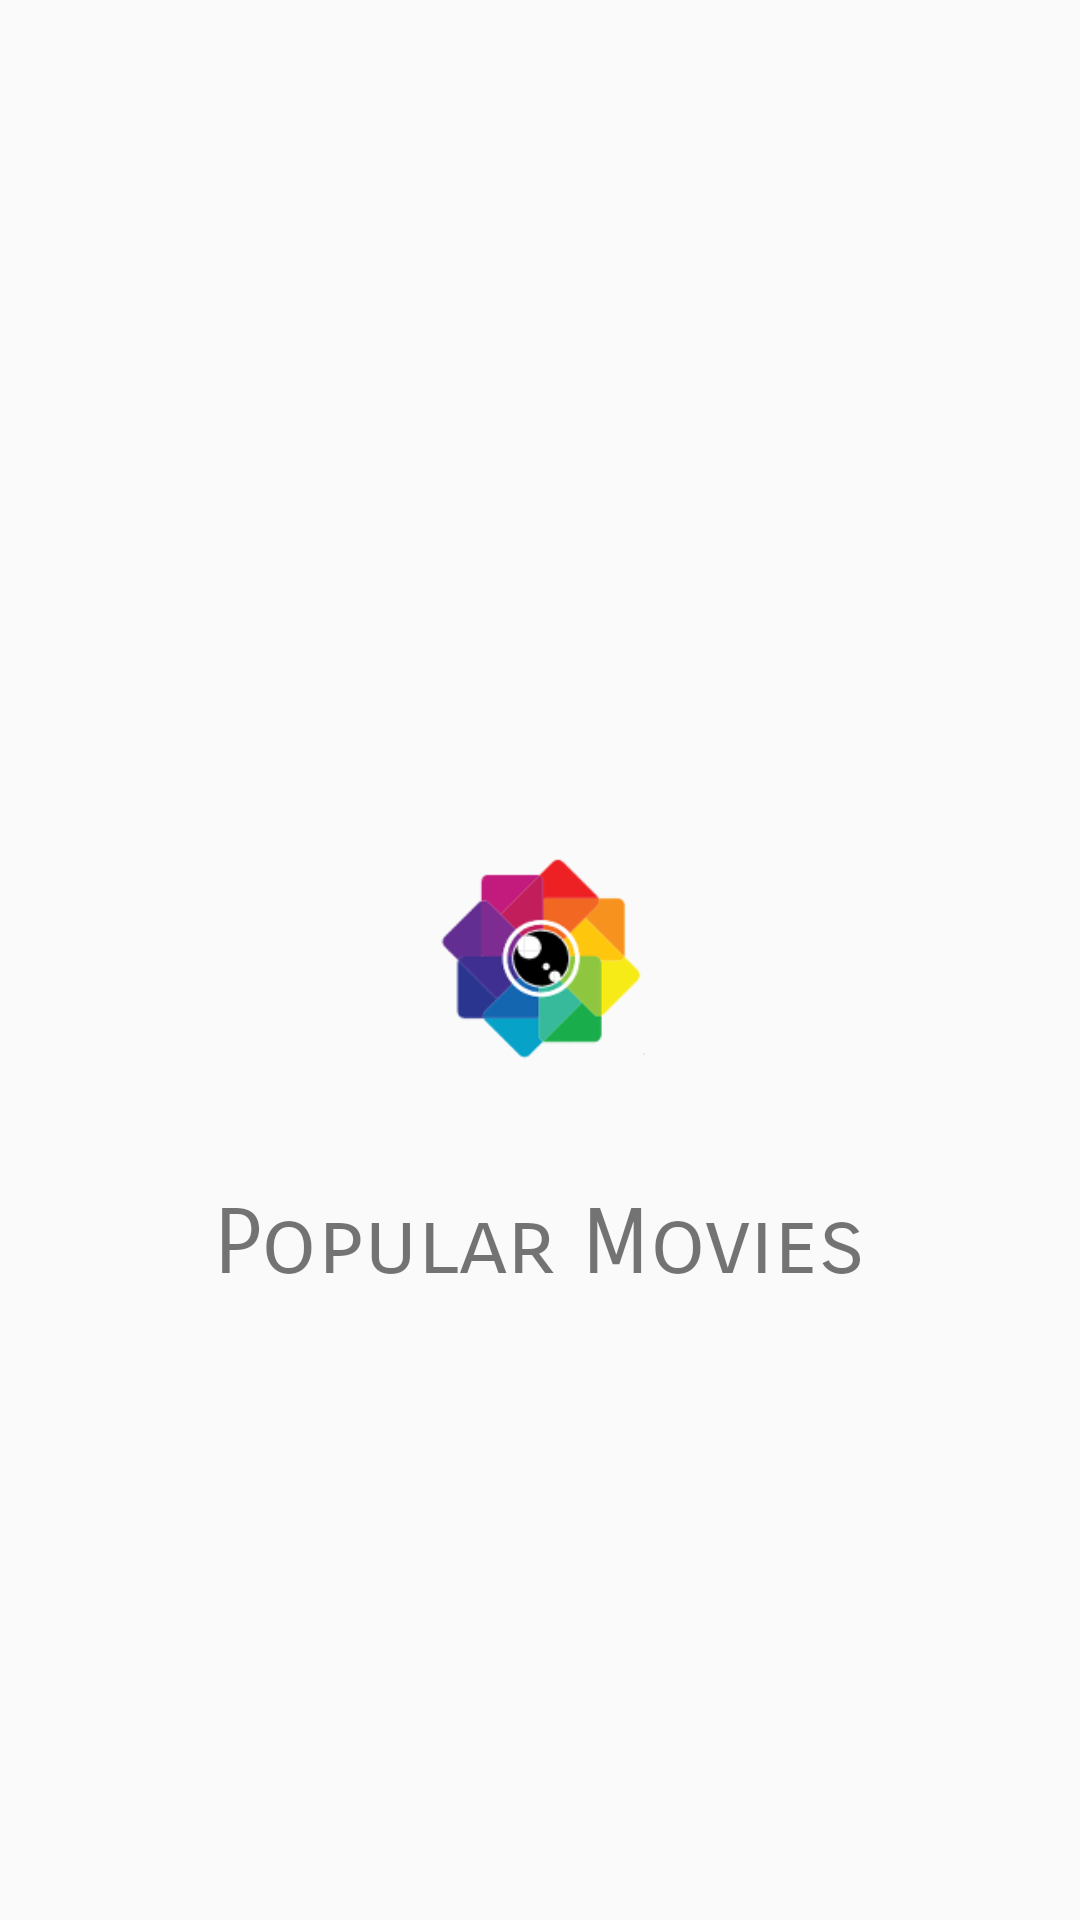

Screen size 1080 x 1920. Icon name, then its box in pixels as rect(x1, y1, x2, y2):
app: rect(441, 859, 641, 1059)
